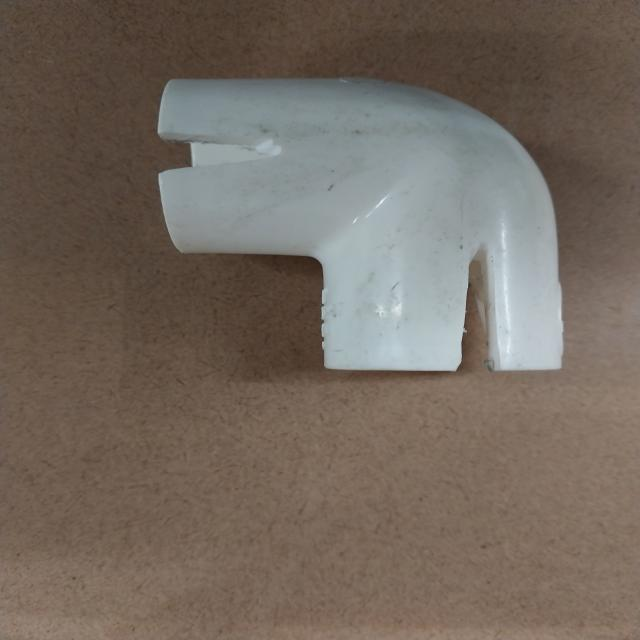L Joint: (152, 68, 566, 377)
